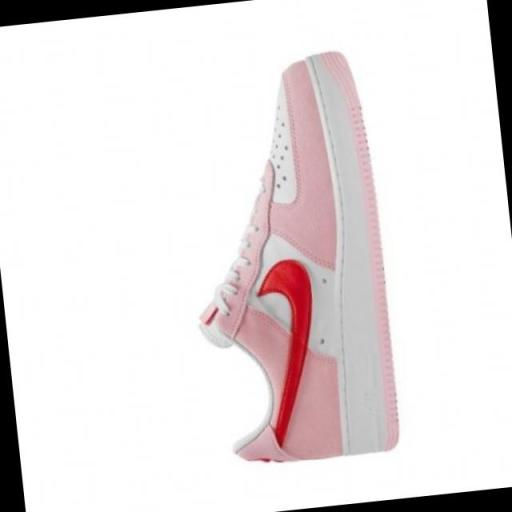Nike: (252, 254, 331, 443)
